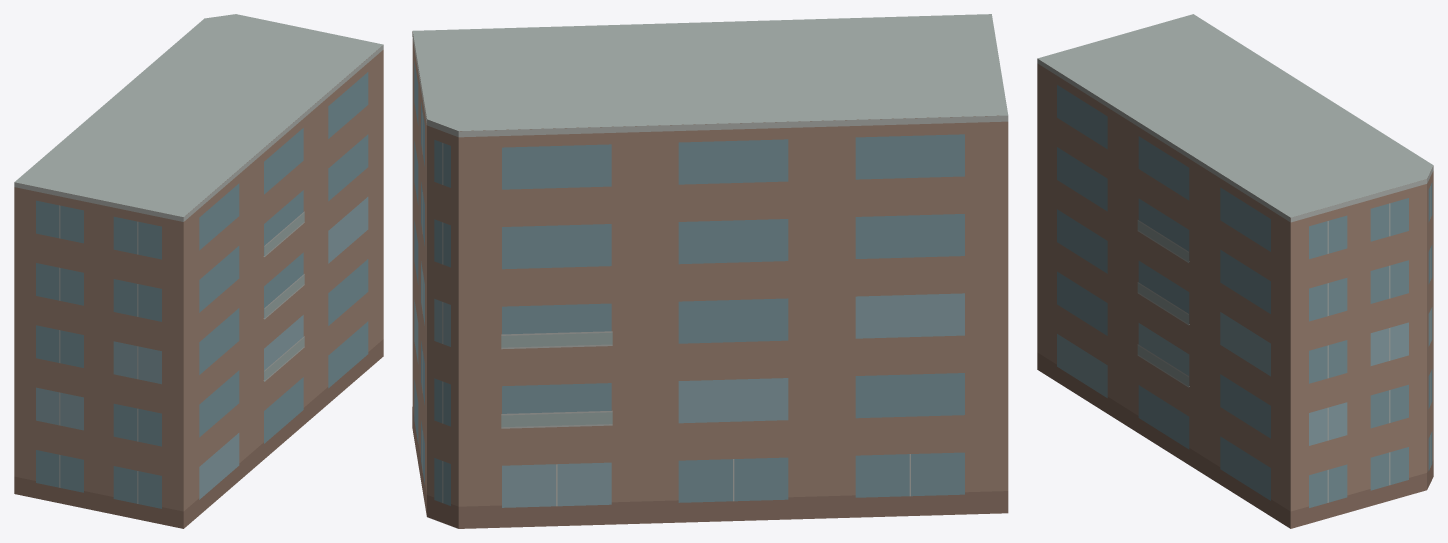
File: survey-upis-32624250.glb
The picture shows the model from 3 angles, left to right: view 1: azimuth 30°, elevation 25°; view 2: azimuth 150°, elevation 25°; view 3: azimuth 270°, elevation 25°; orthographic projection. The views are drawn at different scales.
Visible parts, largest first — view 1: survey-upis-32624250.tmp; view 2: survey-upis-32624250.tmp; view 3: survey-upis-32624250.tmp.
Part boxes in pixels (x1,y1,x2,y2): survey-upis-32624250.tmp: (14,14,383,528); survey-upis-32624250.tmp: (412,14,1008,528); survey-upis-32624250.tmp: (1037,14,1433,528).
Bounding box in the file's own units: 22.12 × 15.75 × 18.19.
